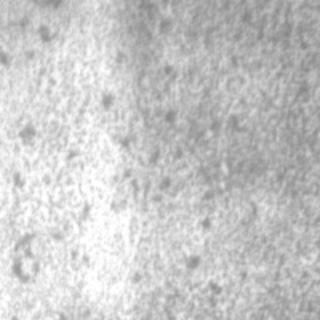pitted_surface: (96, 0, 318, 282), (0, 27, 140, 299)
